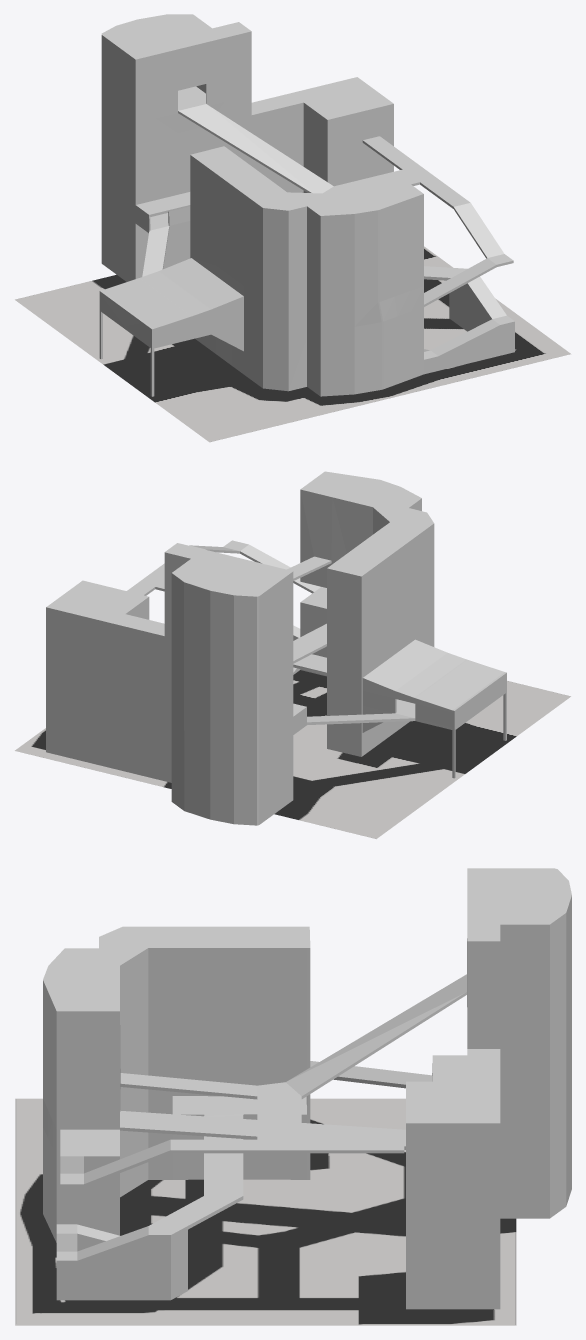
File: TestPrefab7.FBX
The picture shows the model from 3 angles, top to bottom: view 1: azimuth 30°, elevation 25°; view 2: azimuth 150°, elevation 25°; view 3: azimuth 270°, elevation 25°; orthographic projection. The views are drawn at different scales.
Visible parts, largest first — view 1: Box026, Plane002; view 2: Box026, Plane002; view 3: Box026, Plane002.
Boxes of the visible parts, x1,y1,x2,y2 form: Box026: (99,14,514,396); Plane002: (15,246,570,442); Box026: (46,471,506,825); Plane002: (15,670,570,838); Box026: (43,868,571,1309); Plane002: (15,1098,516,1325).
Size of the model in its own units: 95.26 by 57.6 by 99.01.
Materials: 1 (1 with a texture image).
